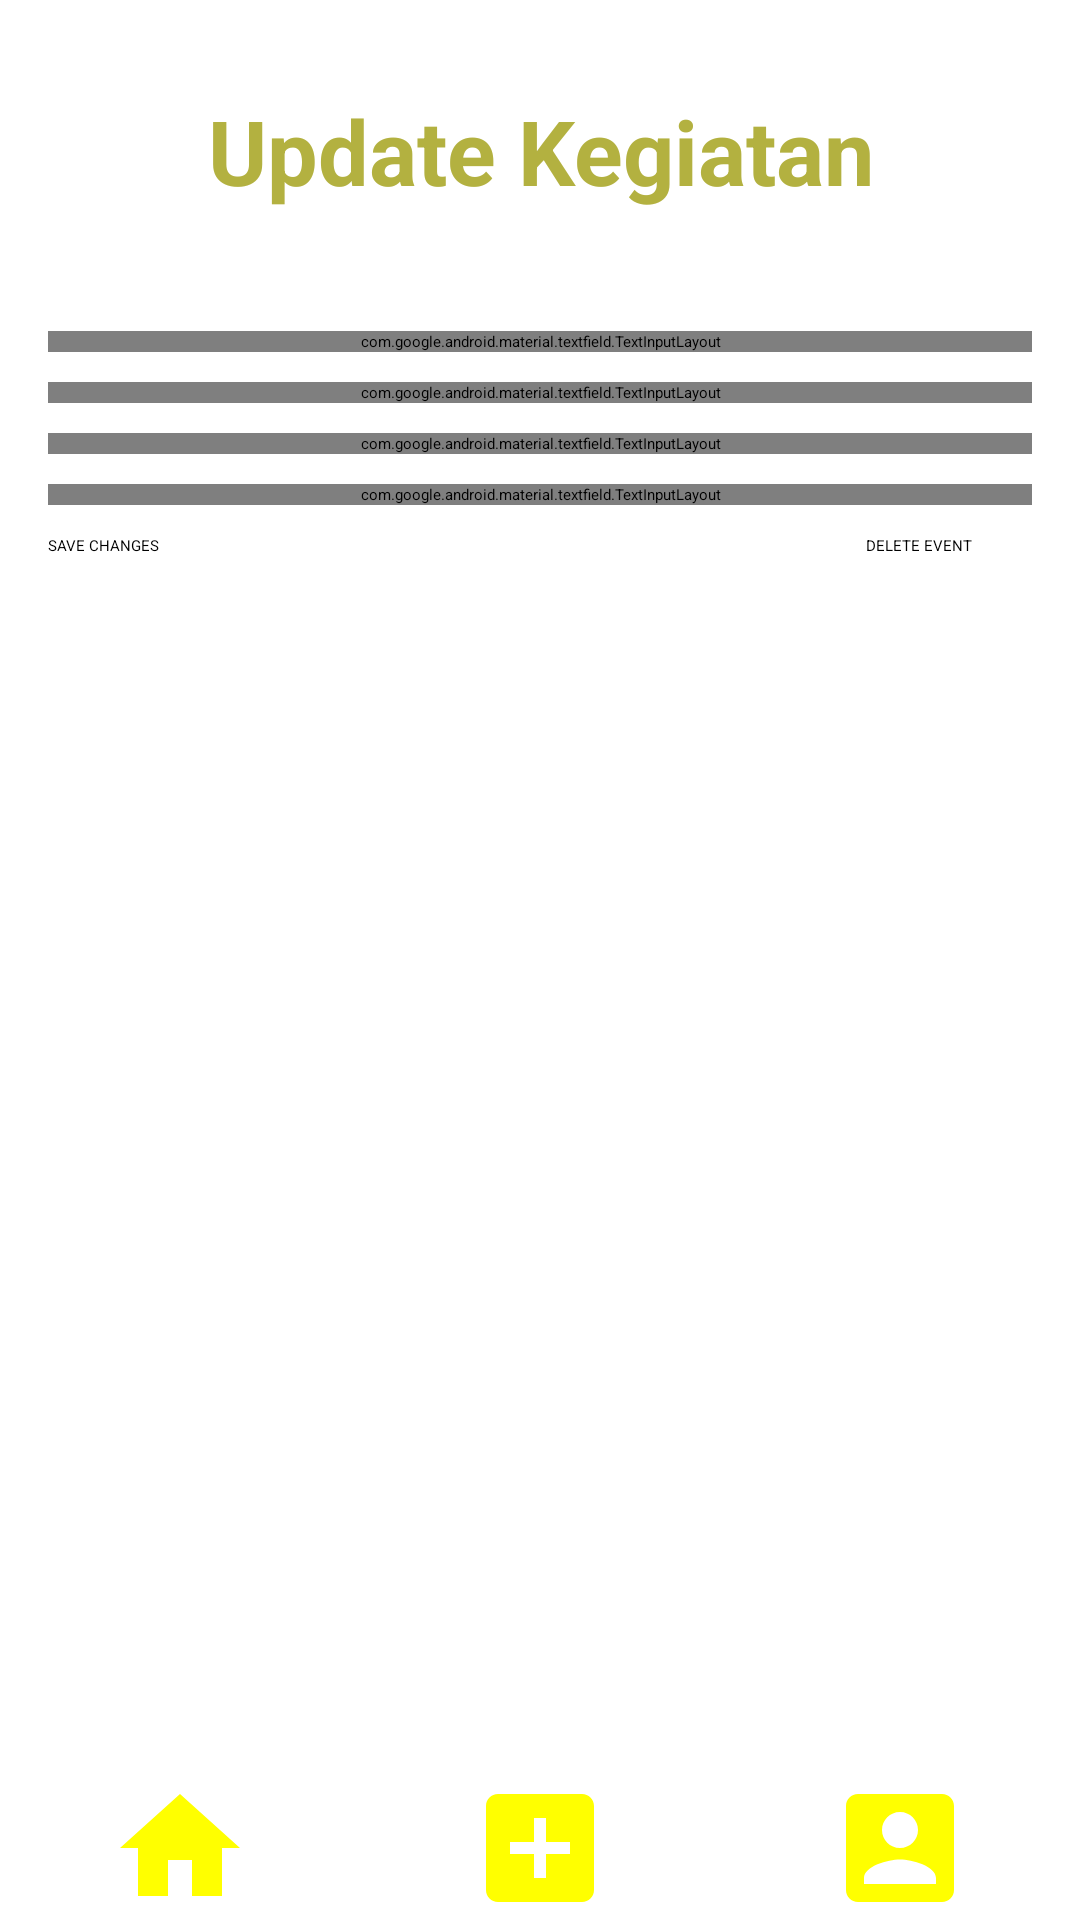

Locate icon controls on the screen. Image size 1080w x 1920h, boxes as (x1=x1, y1=y1, x2=x2, y2=y2).
account: (x1=846, y1=1794, x2=954, y2=1902)
add: (x1=486, y1=1794, x2=594, y2=1902)
home: (x1=120, y1=1794, x2=240, y2=1896)
